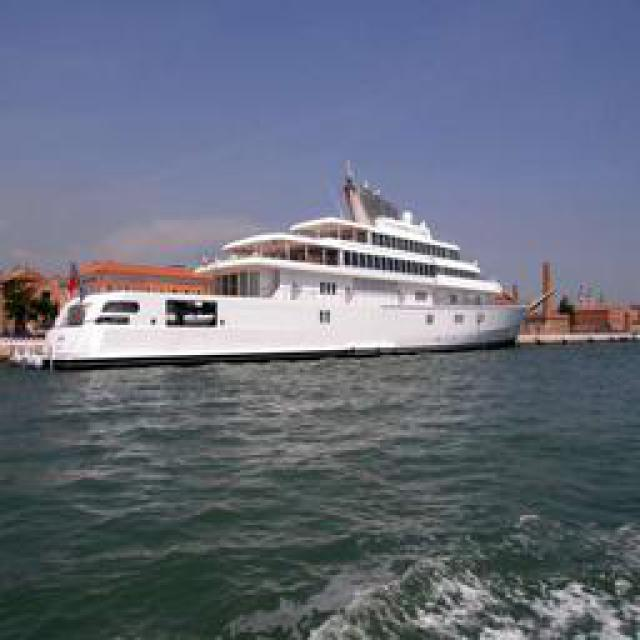Ship: (46, 161, 524, 364)
